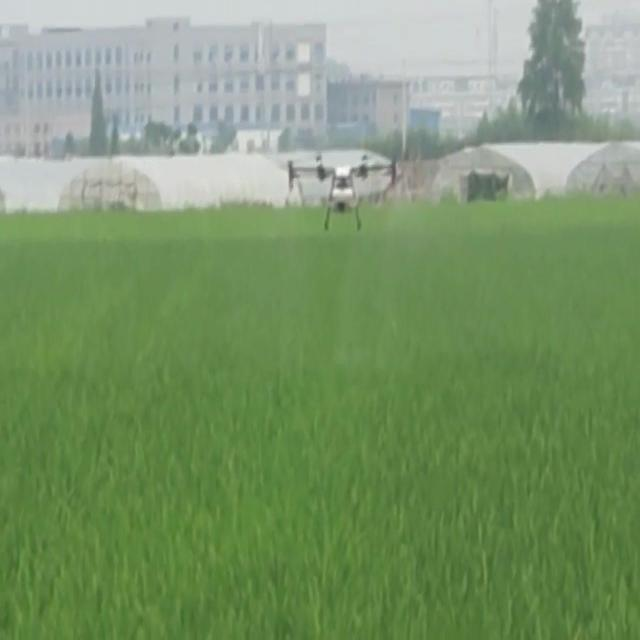drone: (285, 150, 398, 233)
